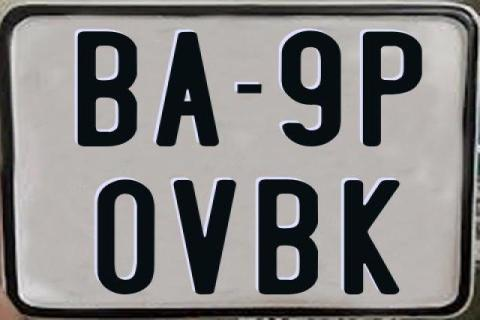0: (281, 30, 345, 146), (96, 177, 157, 297)
A: (154, 32, 218, 150)
B: (258, 178, 323, 294), (78, 31, 140, 151)
K: (343, 178, 405, 296)
P: (363, 29, 423, 150)
V: (172, 180, 236, 296)
